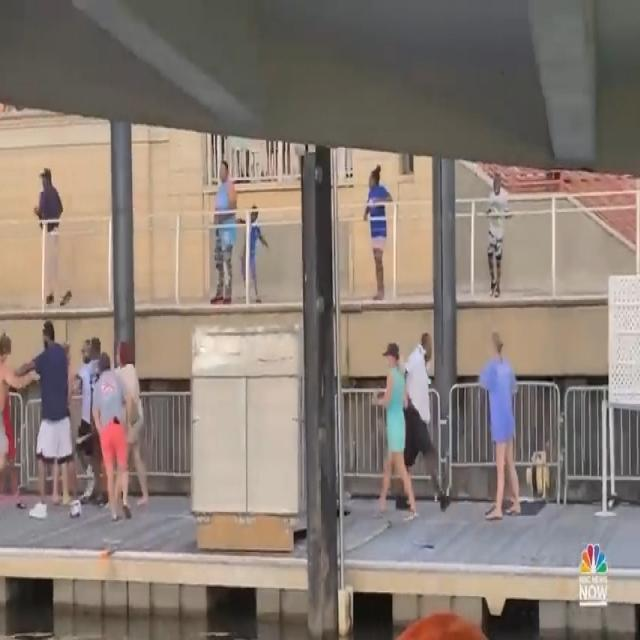fight: (0, 317, 151, 527)
non-fight: (376, 325, 527, 527)
